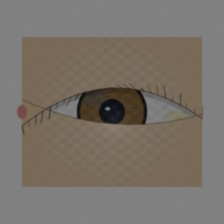pinguecula_lesion: (152, 96, 202, 136)
